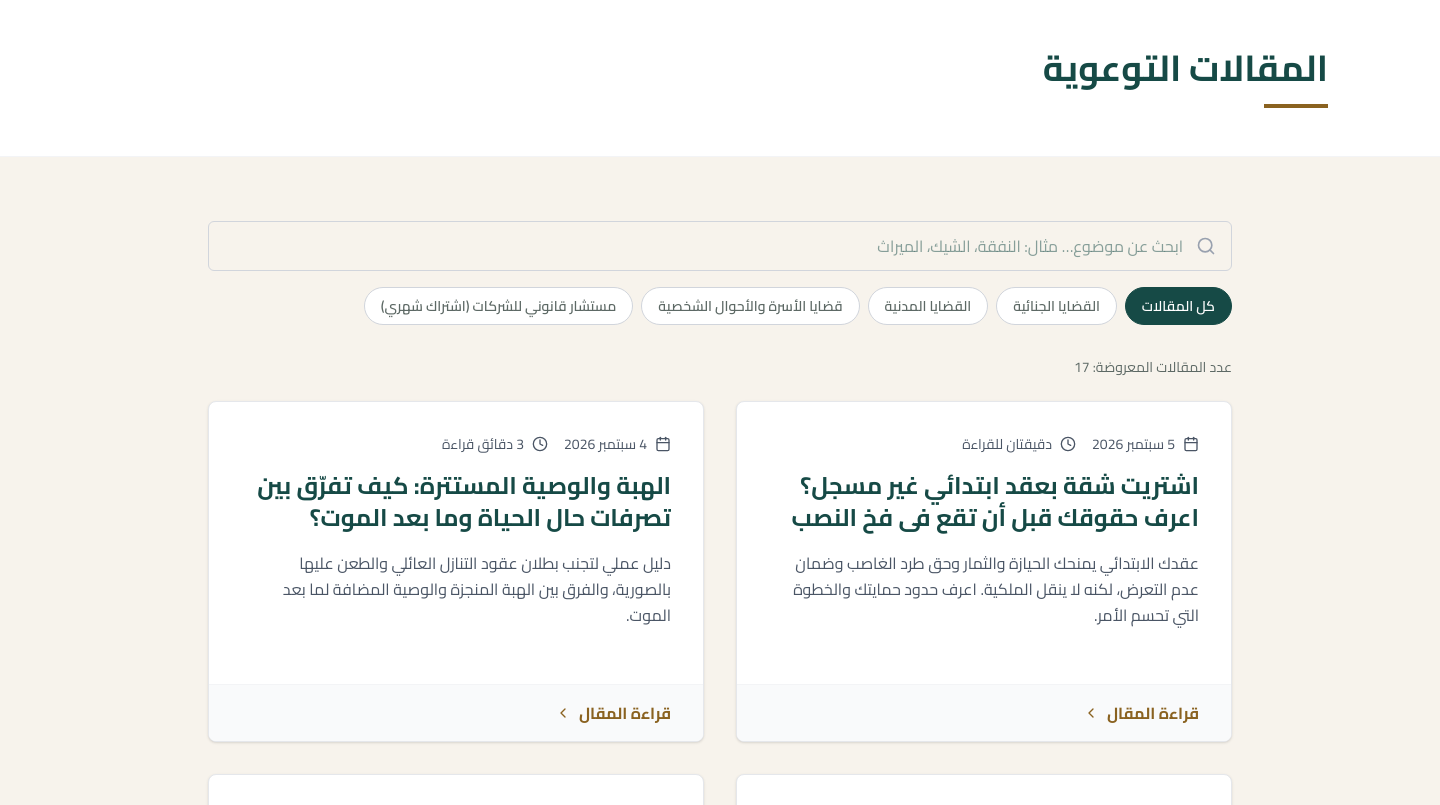
Test case: Articles page › searches article text and offers a way back when nothing matches
The image size is (1440, 805).
Type "الميراث" into the search field named "ابحث في المقالات". click: (720, 246)
box: [208,221,1232,271]
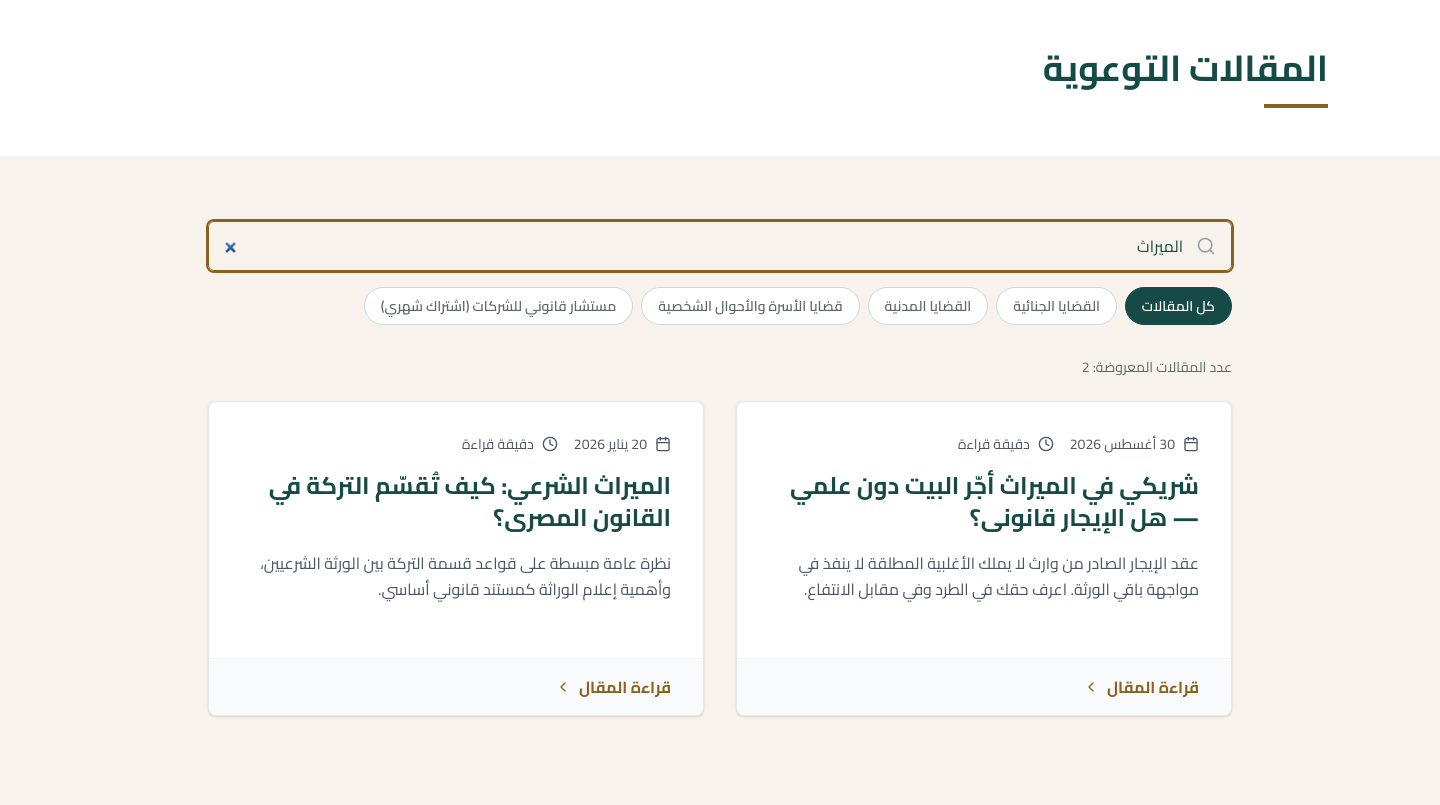
Check: the link "قراءة المقال" below "30 أغسطس 2026" is shown, box [1083,672,1199,702]
Replace the text in the search field named "ابحث في المقالات" with "زذزذزذ". click: (720, 246)
box: [208,221,1232,271]
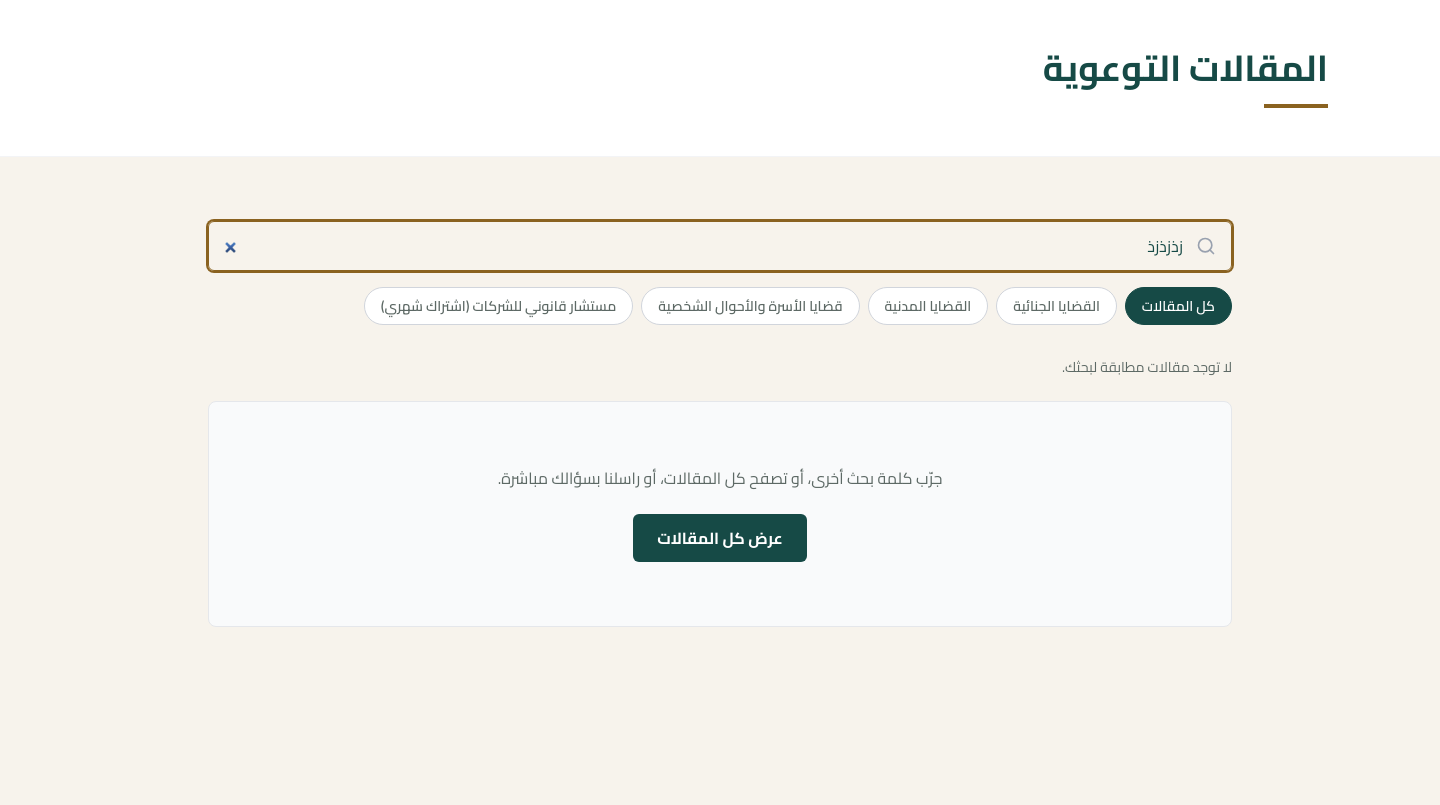
Check: the text "لا توجد مقالات مطابقة لبحثك." is shown, box [1062,354,1232,380]
Click the button "عرض كل المقالات". click: (720, 538)
box: [633,514,807,562]
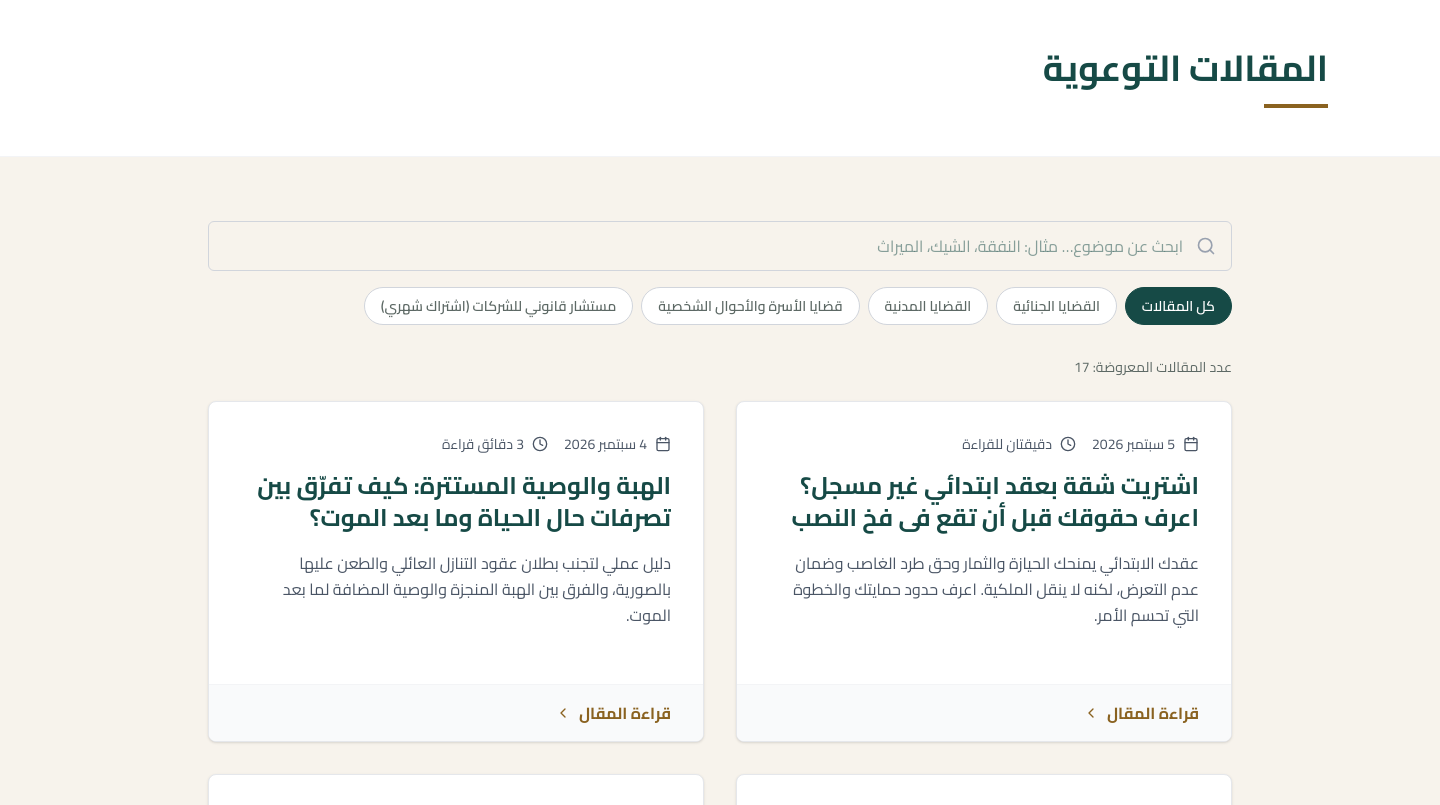
Check: the number of links "قراءة المقال" is 17
